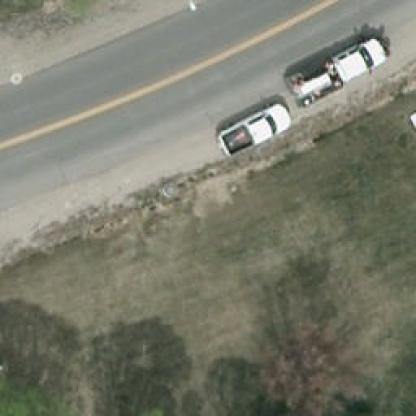car: (214, 106, 304, 158)
pickup: (283, 36, 386, 109)
